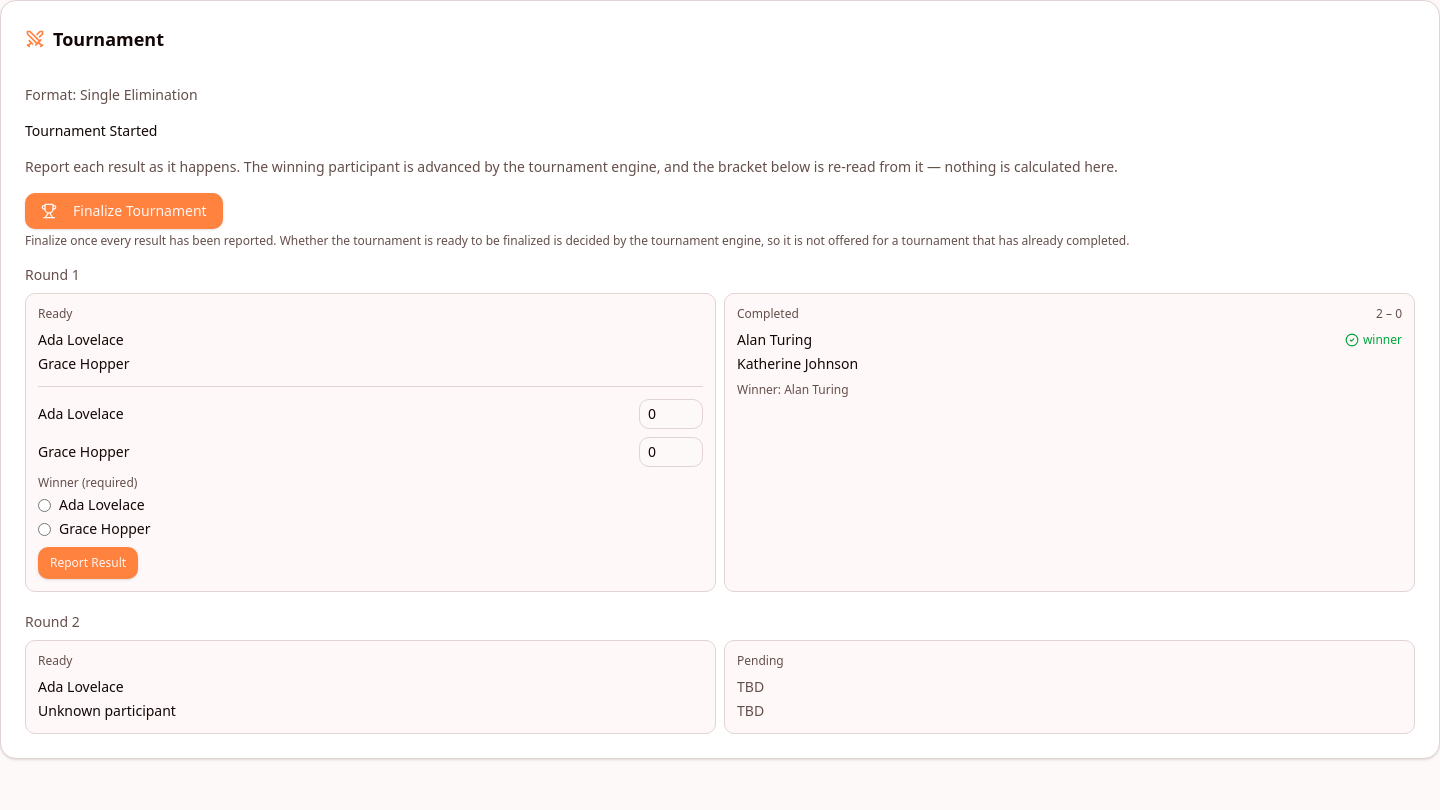
Test: TournamentPanel — result reporting › requires the winner to be selected before submitting
Click the button "Report Result" at point(88, 563), box [38,547,138,579]
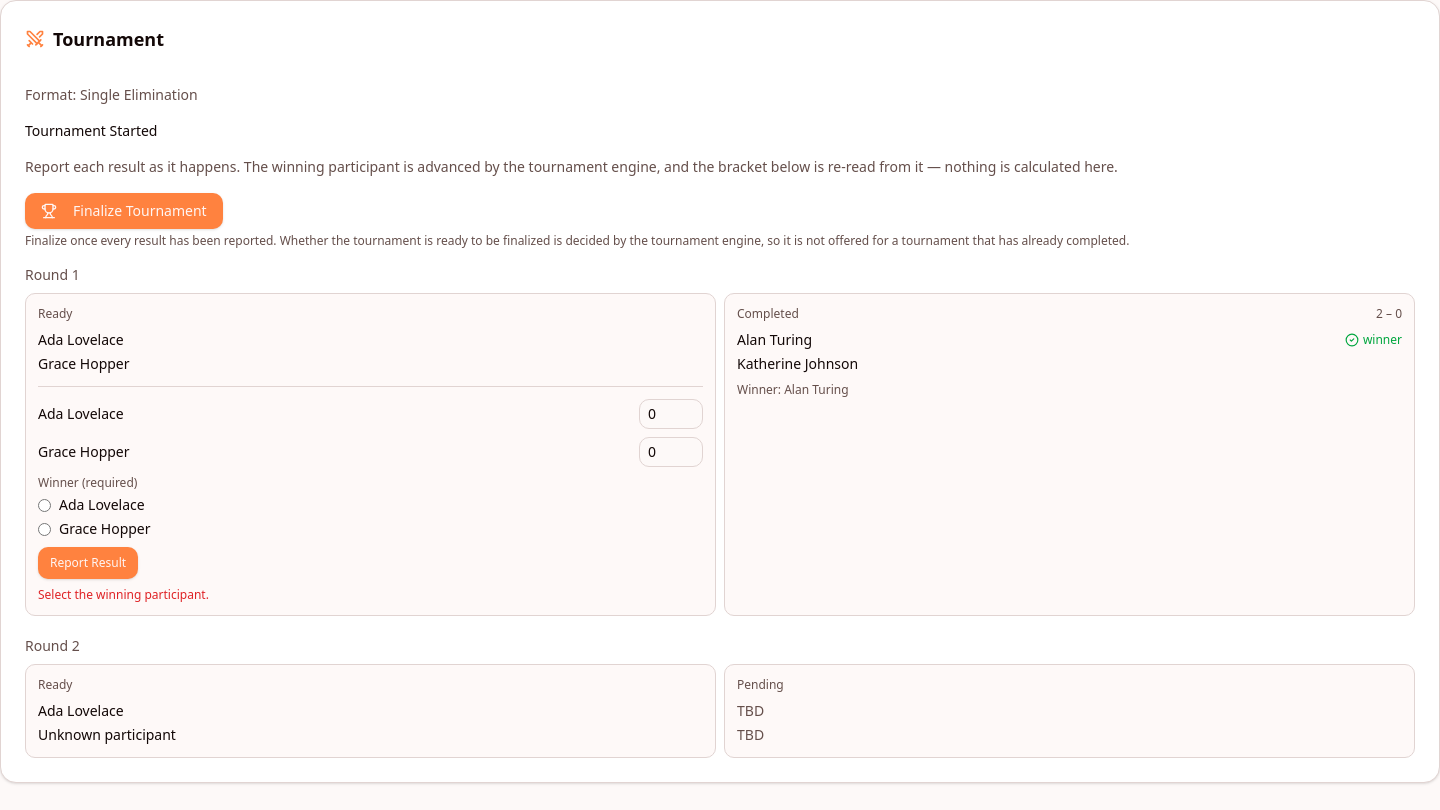
expect the text "Select the winning participant." is shown: met, box [38,586,209,603]
